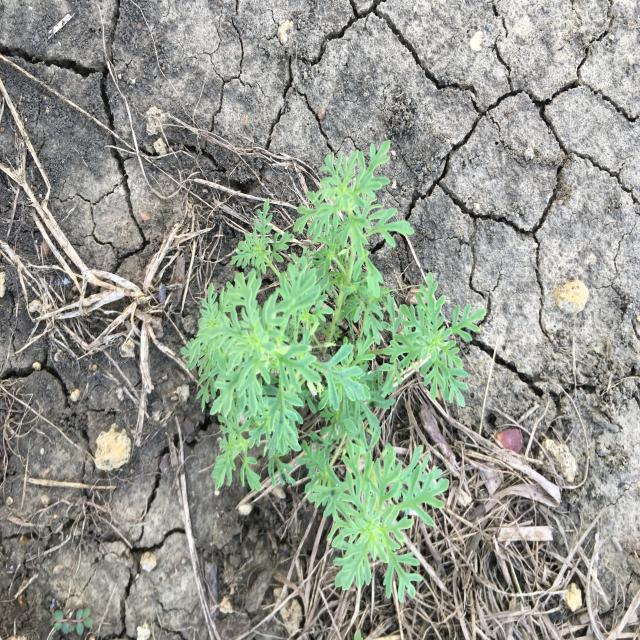Ragweed: (177, 137, 489, 608)
SpottedSpurge: (48, 604, 94, 635)
